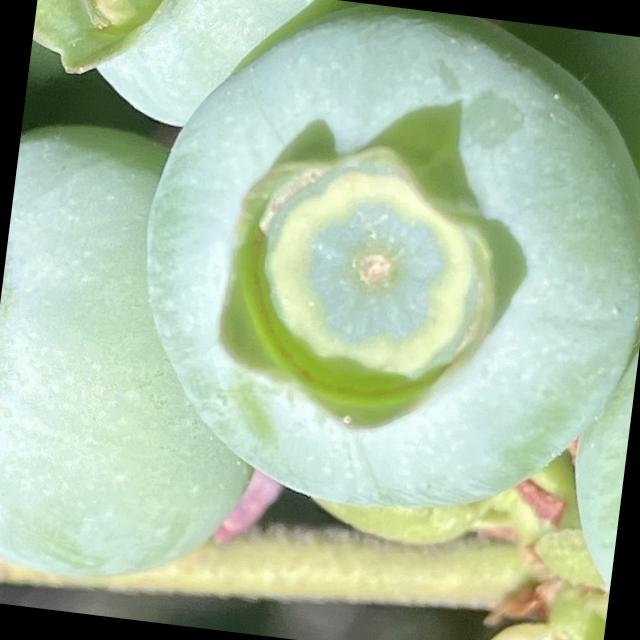Blueberries: (110, 0, 640, 549), (0, 125, 295, 611), (22, 0, 354, 156)
